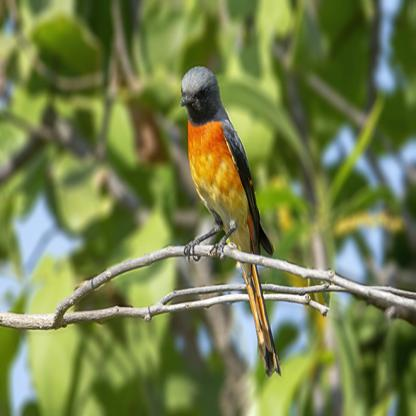Burung: (180, 63, 281, 377)
